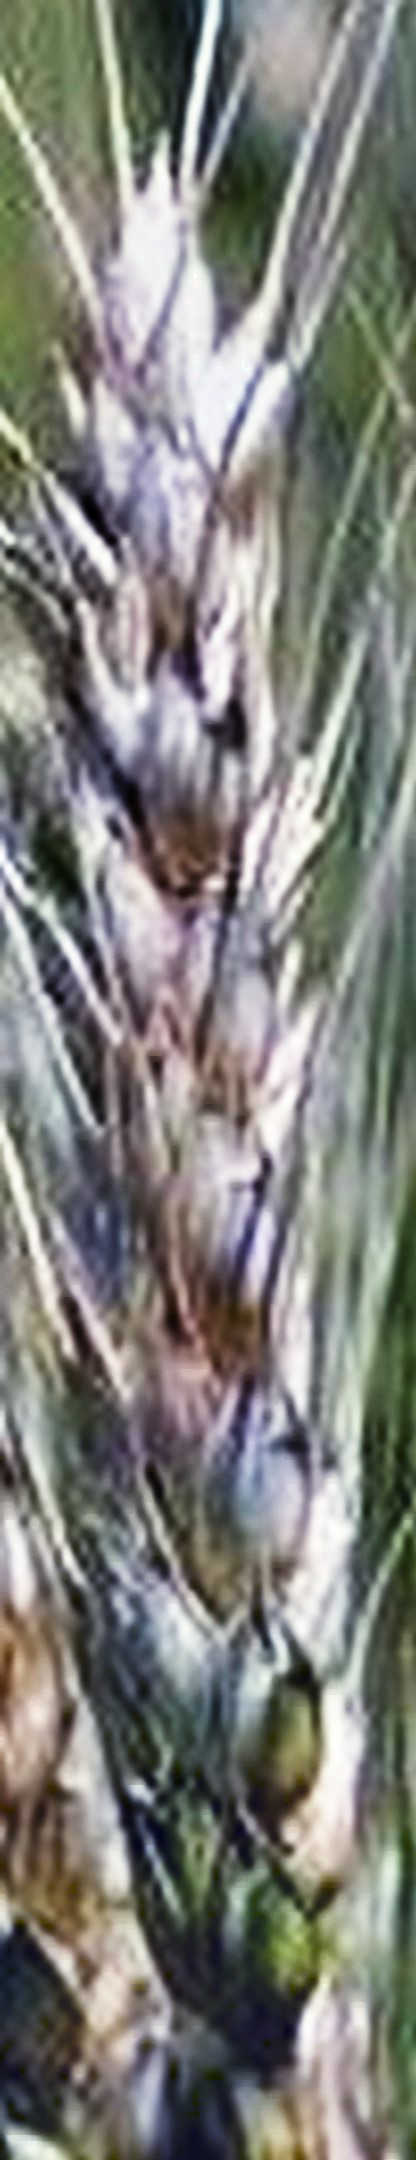Wheat scab: (11, 174, 416, 2010)
